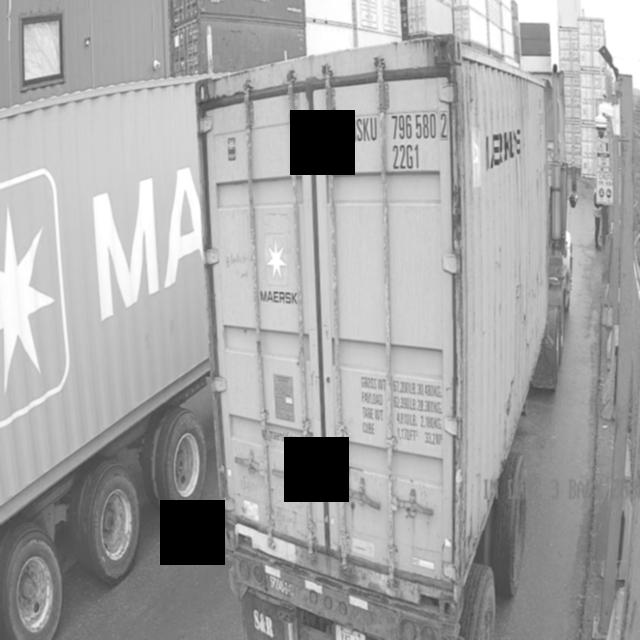container_company_logo: (259, 233, 295, 313)
container_number: (345, 114, 450, 174)
driver: (592, 189, 604, 249)
license_plate: (332, 627, 370, 640)
other_container_info: (358, 368, 443, 450)
truck_with_container: (197, 35, 577, 640), (0, 78, 209, 640)
